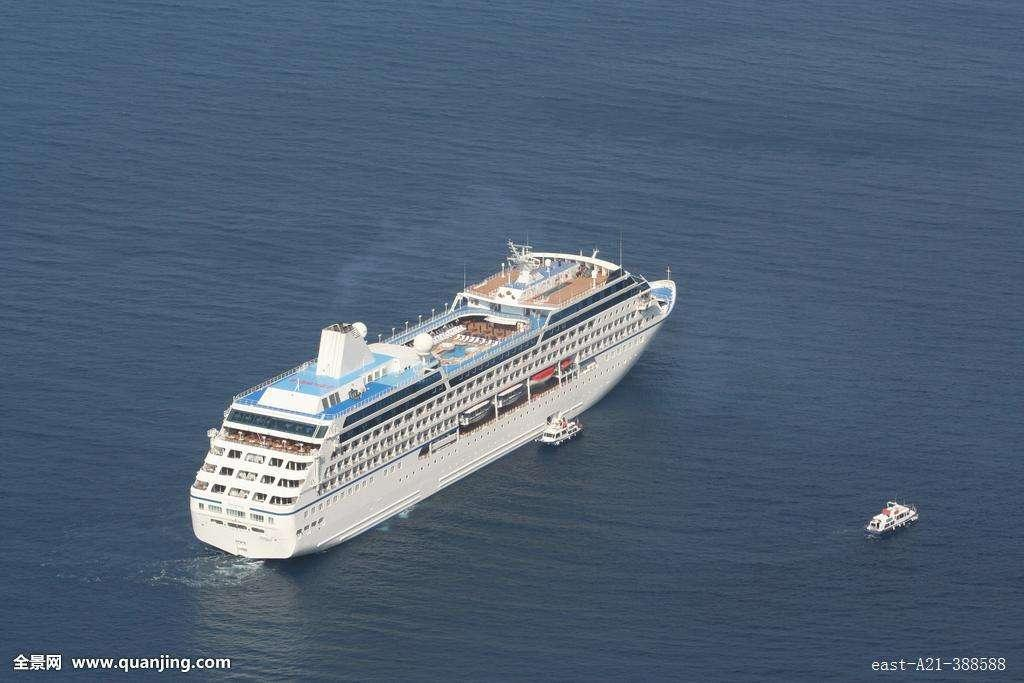otherboat: (856, 497, 927, 542), (535, 414, 584, 449)
youlun: (174, 226, 689, 565)
